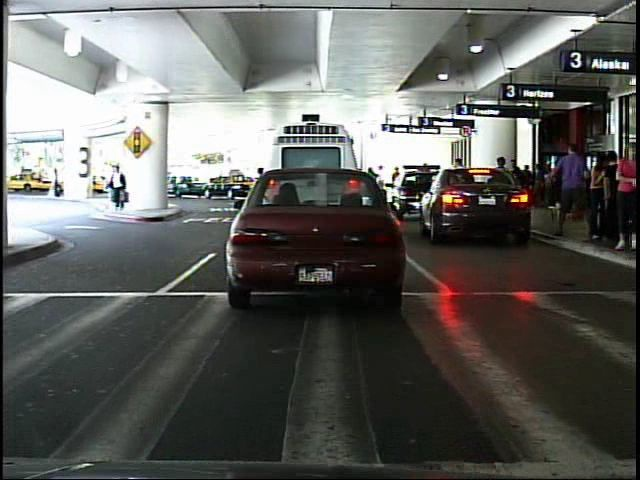person: (611, 140, 638, 255), (101, 157, 134, 213), (53, 164, 68, 203)
